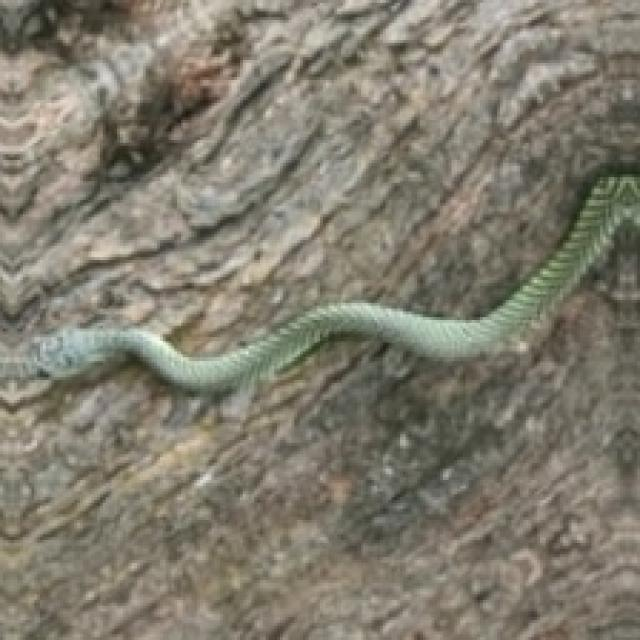paradise tree snake: (0, 174, 637, 391)
